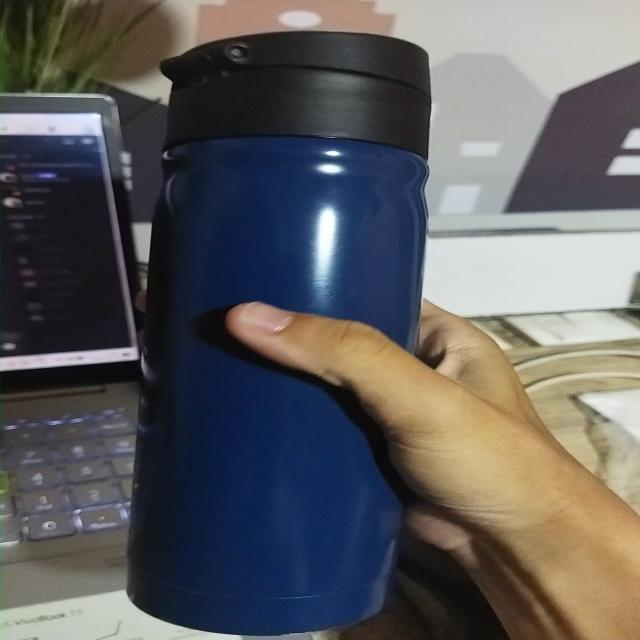bottle: (125, 31, 436, 636)
